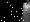person: (24, 5, 30, 17)
